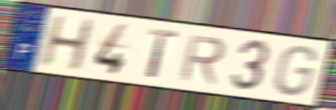3: (230, 38, 271, 93)
4: (91, 22, 127, 77)
G: (272, 44, 319, 98)
H: (37, 15, 96, 73)
R: (176, 34, 228, 86)
T: (146, 26, 181, 81)
